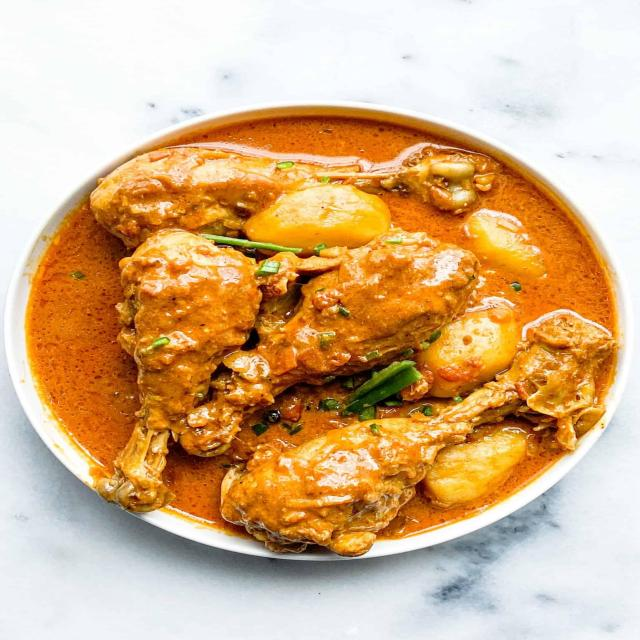chicken: (77, 145, 574, 546)
